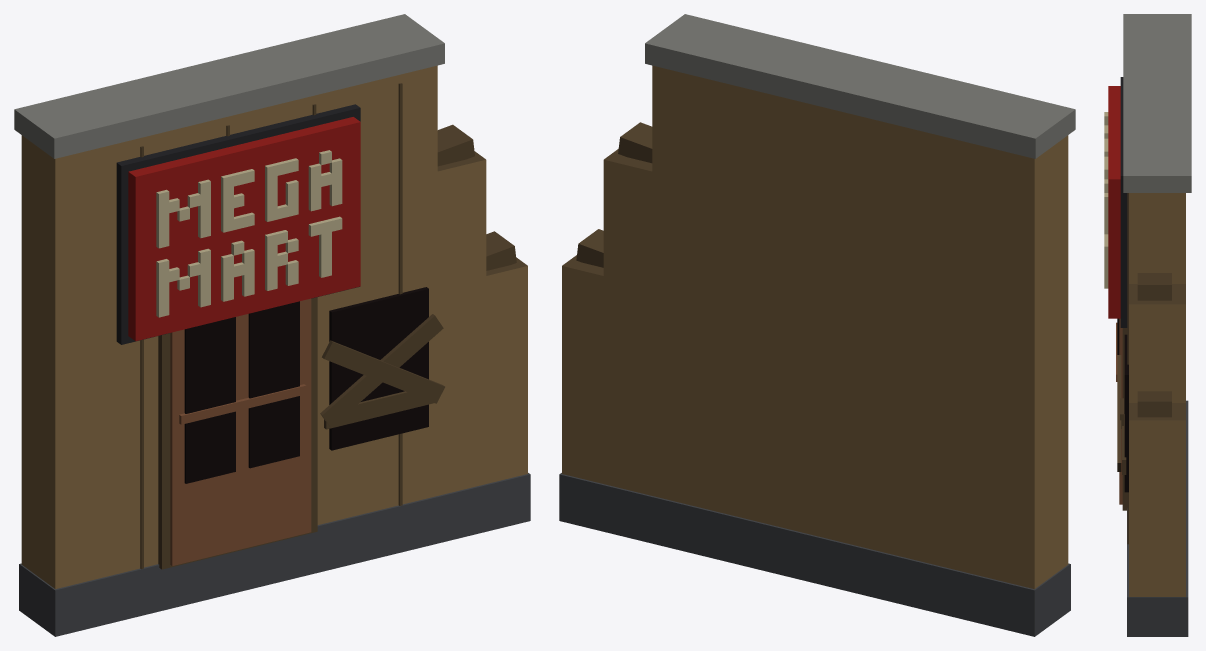
Rendered from hollis_megamart_wall.glb.
The picture shows the model from 3 angles, left to right: view 1: azimuth 30°, elevation 25°; view 2: azimuth 150°, elevation 25°; view 3: azimuth 270°, elevation 25°; orthographic projection. The views are drawn at different scales.
Visible parts, largest first — view 1: hollis_megamart_wall; view 2: hollis_megamart_wall; view 3: hollis_megamart_wall.
Boxes of the visible parts, x1=… form: hollis_megamart_wall: x1=14, y1=14, x2=530, y2=636; hollis_megamart_wall: x1=559, y1=14, x2=1075, y2=636; hollis_megamart_wall: x1=1104, y1=14, x2=1191, y2=636.
Bounding box in the file's own units: 3.44 × 3.44 × 0.64.
